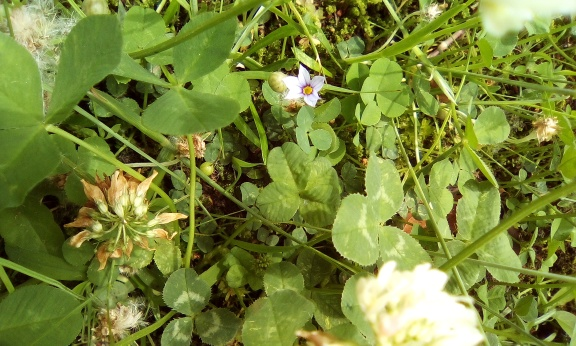4leaf: (255, 142, 341, 228)
